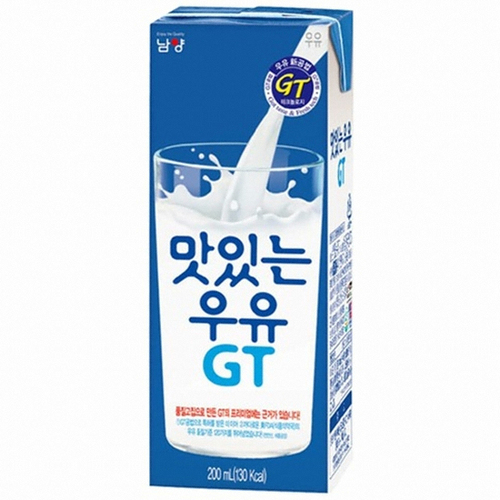milk: (150, 4, 356, 494)
